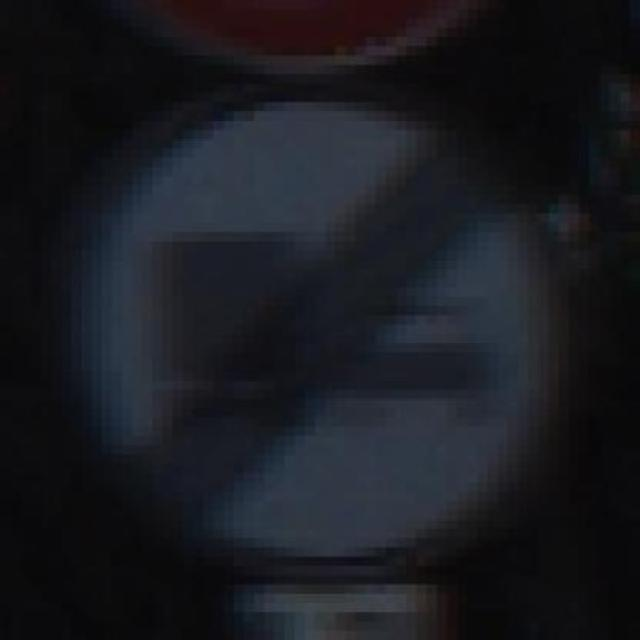Overtaking by trucks is prohibited: (50, 47, 579, 576)
